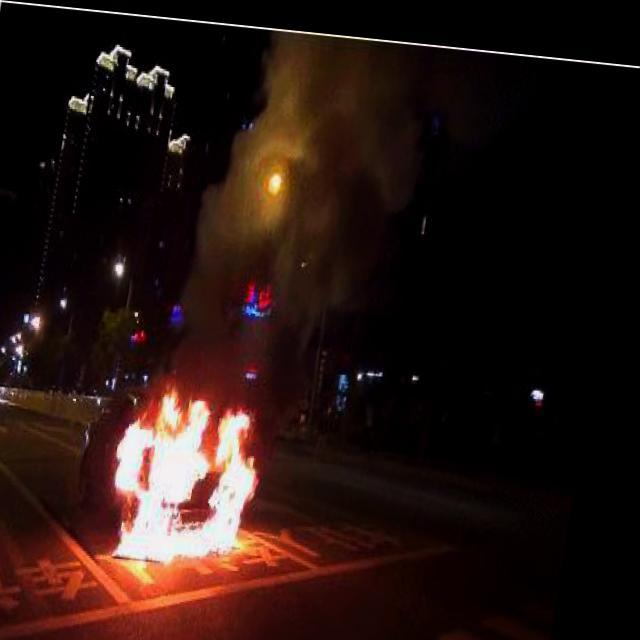Fire: (113, 372, 284, 558)
